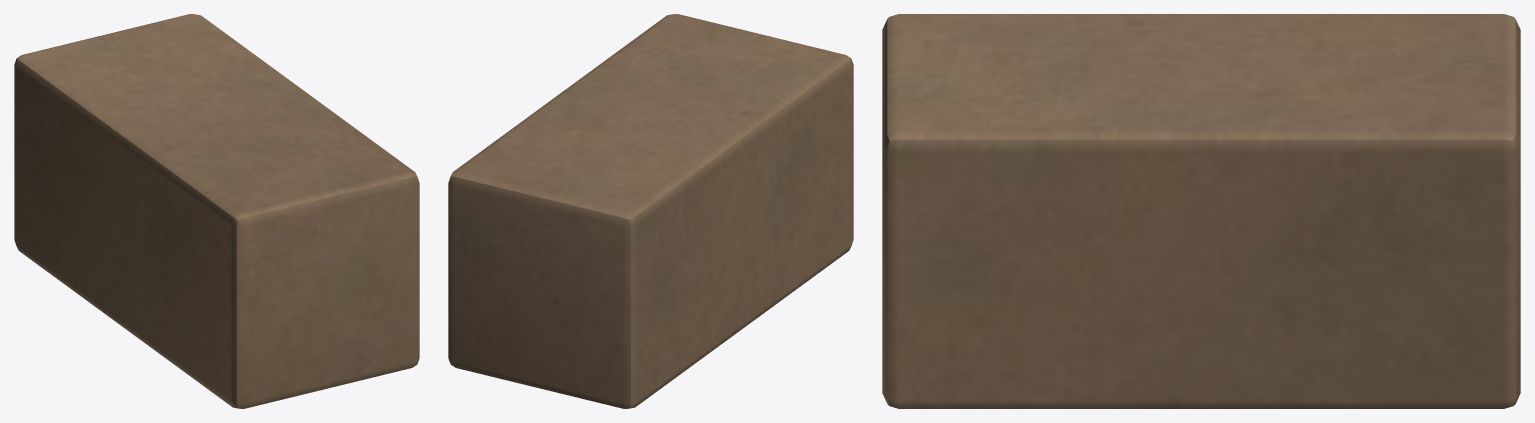
File: mp-tea.glb
3 views of the same model, side by side, from view 1: azimuth 30°, elevation 25°; view 2: azimuth 150°, elevation 25°; view 3: azimuth 270°, elevation 25° (orthographic). The views are drawn at different scales.
Visible parts, largest first — view 1: Simple_box.001; view 2: Simple_box.001; view 3: Simple_box.001.
Part boxes in pixels (x1,y1,x2,y2): Simple_box.001: (14, 14, 419, 408); Simple_box.001: (448, 14, 853, 408); Simple_box.001: (882, 14, 1520, 408).
Size of the model in its own units: 0.12 by 0.12 by 0.2495.
Materials: 1 (1 with a texture image).
